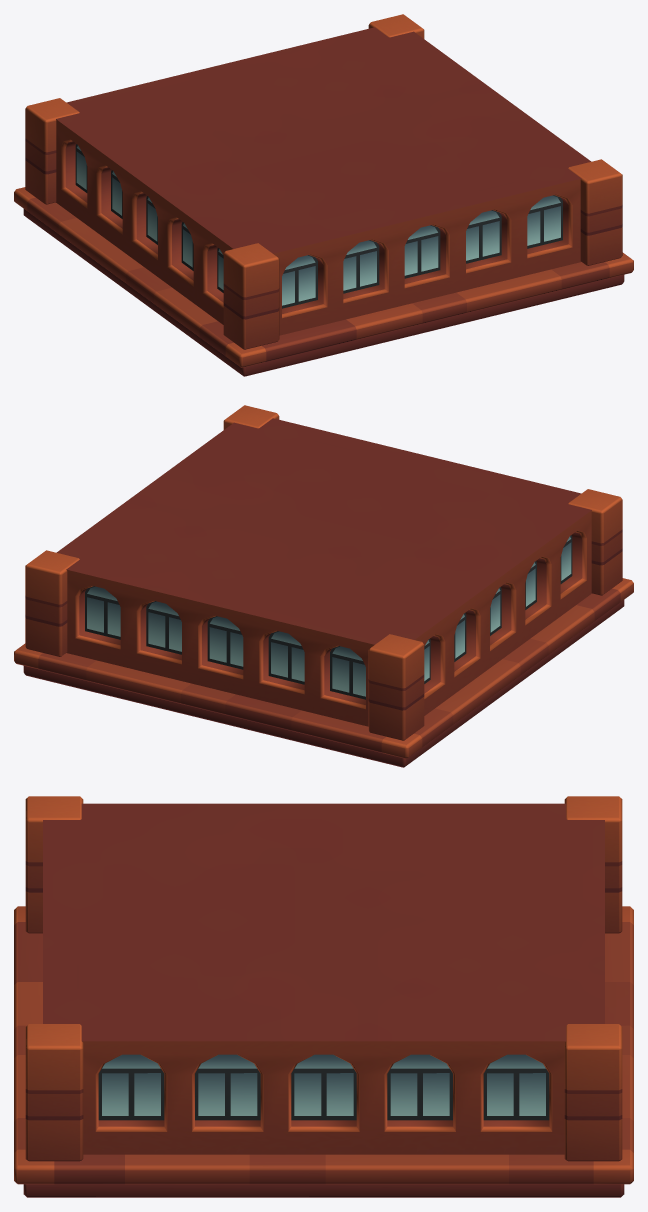
Rendered from office_building_type1_single_floor1_red.fbx.
3 views of the same model, one above another, from view 1: azimuth 30°, elevation 25°; view 2: azimuth 150°, elevation 25°; view 3: azimuth 270°, elevation 25° (orthographic). The views are drawn at different scales.
Visible parts, largest first — view 1: office_building_type1_single_floor1_red; view 2: office_building_type1_single_floor1_red; view 3: office_building_type1_single_floor1_red.
Part boxes in pixels (left/top/right/bottom): office_building_type1_single_floor1_red: left=14, top=14, right=633, bottom=376; office_building_type1_single_floor1_red: left=14, top=405, right=633, bottom=767; office_building_type1_single_floor1_red: left=14, top=796, right=633, bottom=1197.
Size of the model in its own units: 1610 by 434 by 1610.
